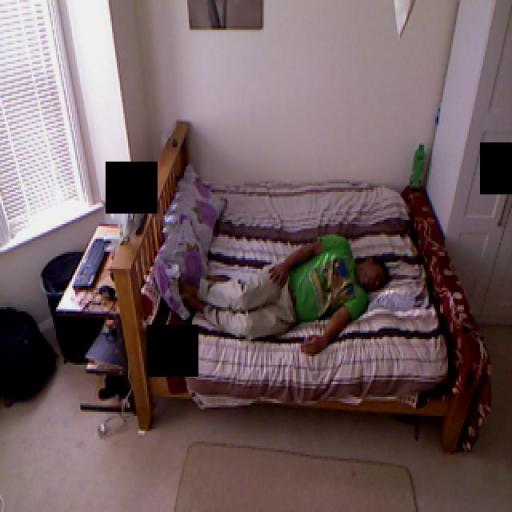Fall: (179, 235, 389, 357)
